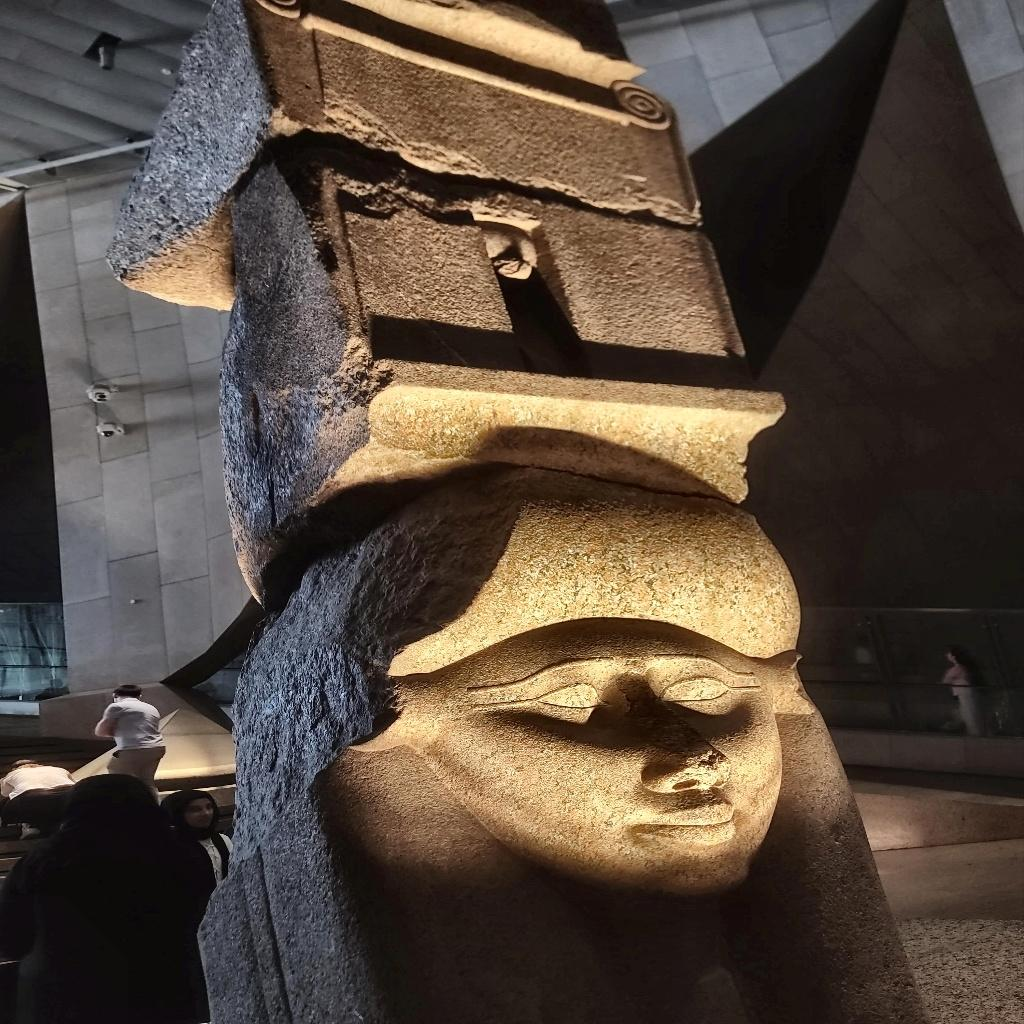Hathor Capital: (214, 2, 874, 912)
